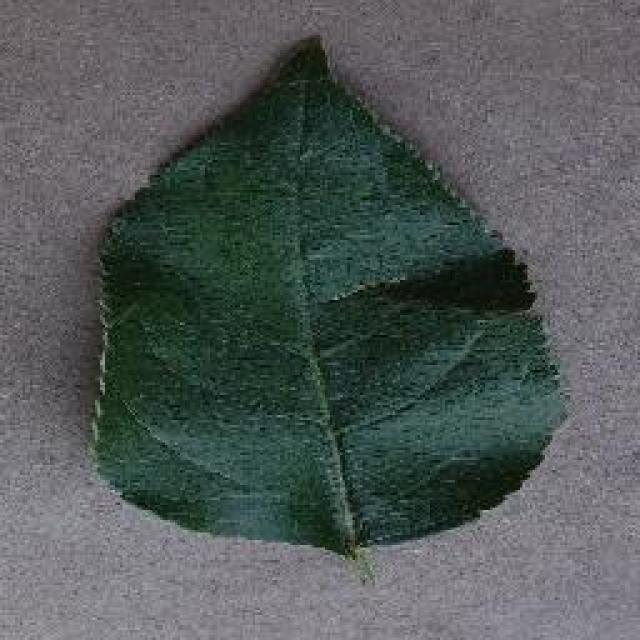Apple___healthy: (75, 22, 580, 592)
